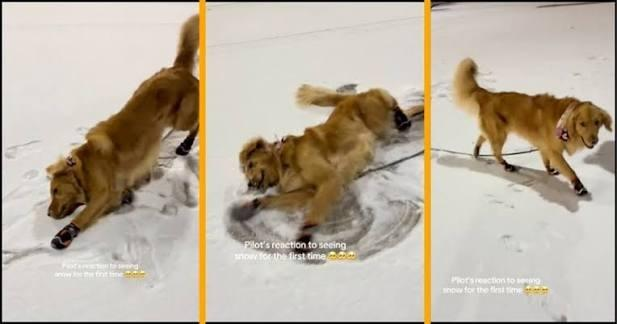adult_dog: (44, 13, 201, 248), (239, 83, 412, 237), (452, 58, 612, 198)
